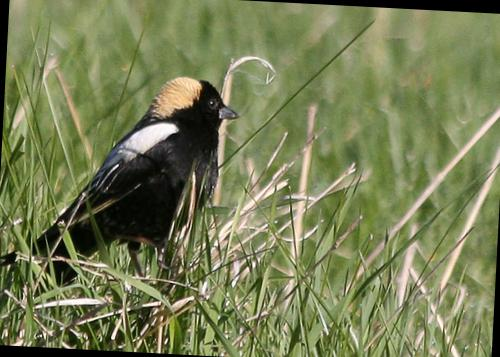bird: (0, 59, 249, 313)
